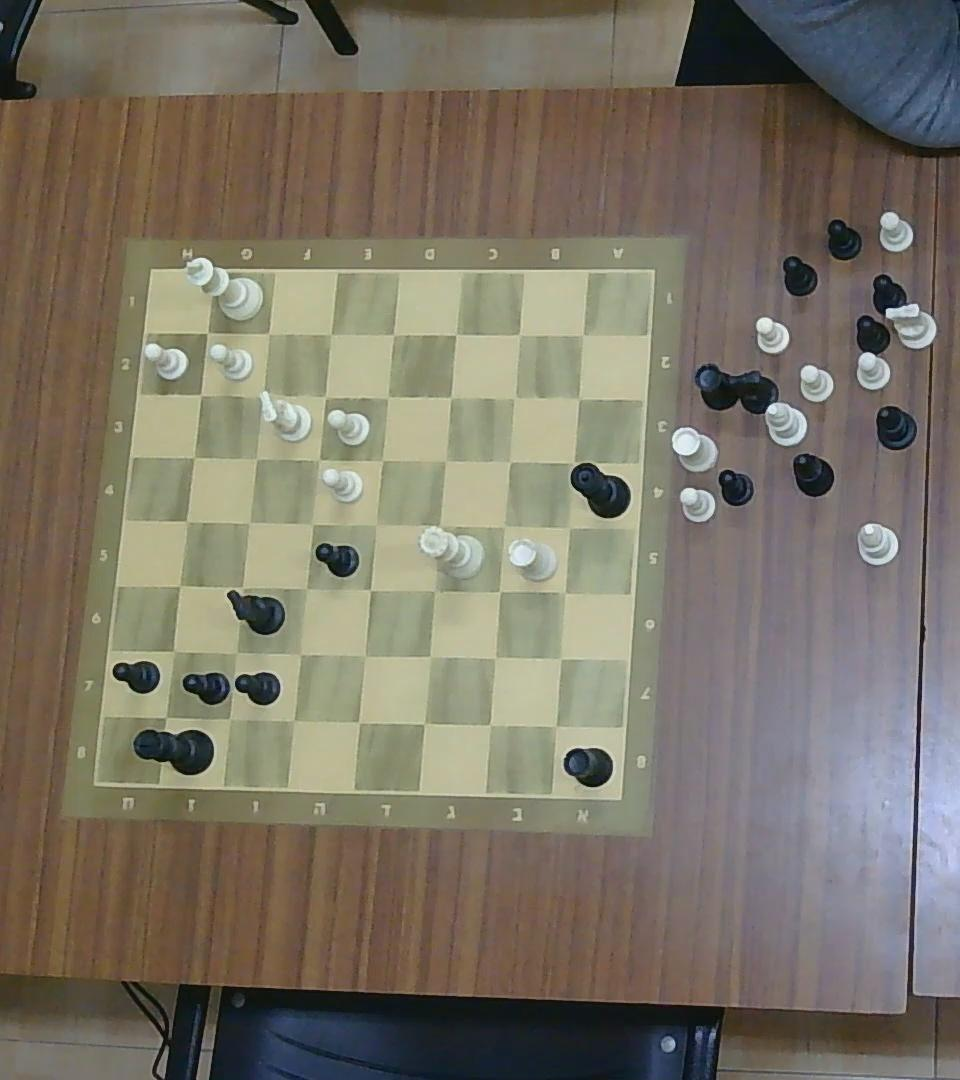xcorner: (542, 713, 569, 740), (215, 705, 241, 732), (279, 707, 305, 734), (411, 710, 437, 737), (153, 703, 179, 730), (477, 710, 503, 737), (352, 641, 377, 668), (486, 578, 511, 605), (379, 320, 404, 347), (417, 642, 442, 669), (369, 447, 394, 473), (167, 572, 192, 598), (547, 645, 573, 670), (425, 513, 450, 539), (287, 639, 311, 666), (346, 709, 371, 734), (481, 645, 506, 670), (558, 448, 583, 473), (375, 383, 399, 409), (421, 577, 445, 603), (557, 513, 581, 539), (491, 513, 515, 539), (174, 507, 198, 532), (223, 640, 247, 665), (237, 510, 261, 535), (552, 579, 576, 604), (358, 576, 382, 601), (229, 574, 253, 599), (196, 319, 219, 345), (162, 638, 185, 664), (188, 381, 212, 405), (318, 321, 341, 346), (497, 448, 520, 473), (294, 576, 317, 601), (438, 384, 461, 408), (300, 512, 323, 536), (364, 512, 387, 536), (257, 320, 280, 344), (570, 322, 594, 345), (433, 448, 455, 473), (444, 322, 467, 345), (306, 447, 329, 470), (250, 383, 273, 406), (182, 445, 204, 469), (245, 445, 267, 469), (313, 384, 335, 408), (503, 386, 525, 409), (508, 322, 530, 345), (567, 387, 588, 409)
